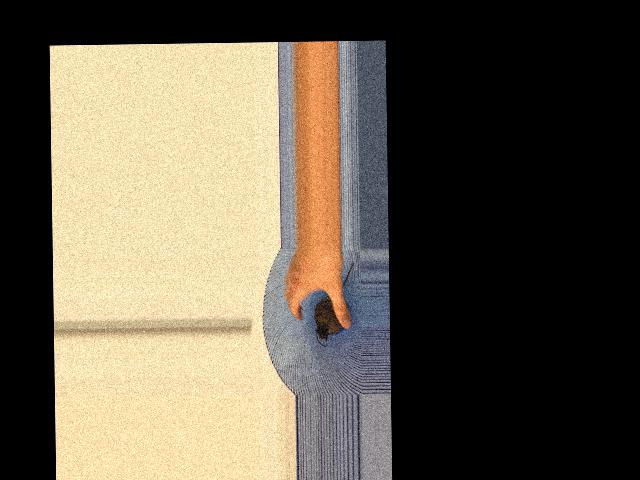beet: (313, 262, 355, 347)
